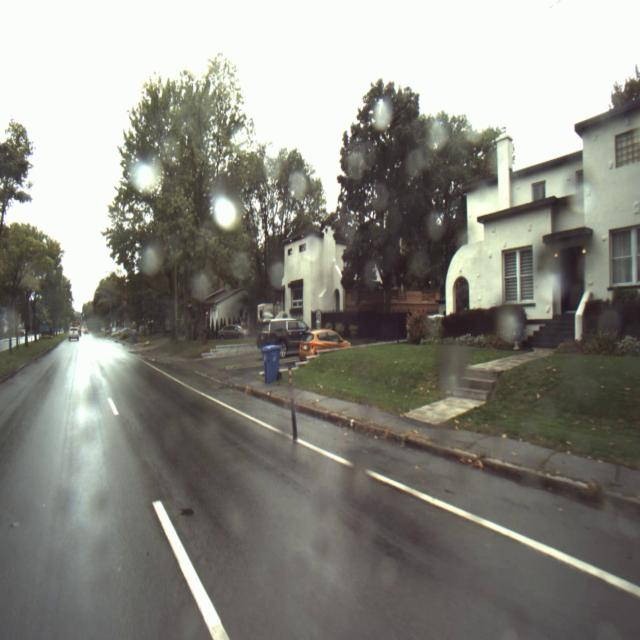car: (258, 318, 307, 357), (298, 328, 351, 360), (217, 324, 249, 340), (68, 326, 79, 342)
